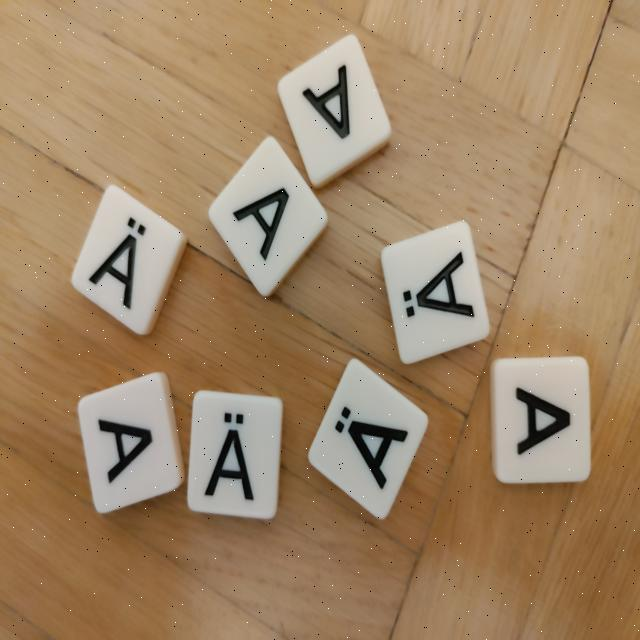a: (205, 132, 333, 302), (274, 32, 396, 192), (75, 369, 187, 517), (490, 356, 592, 486)
a_dot: (305, 355, 432, 524), (68, 181, 189, 342), (378, 218, 494, 367), (187, 390, 285, 521)
